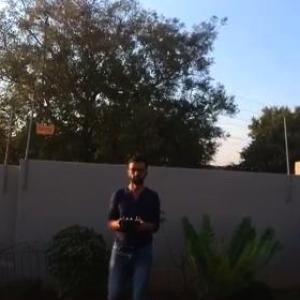follow: (101, 149, 165, 299)
